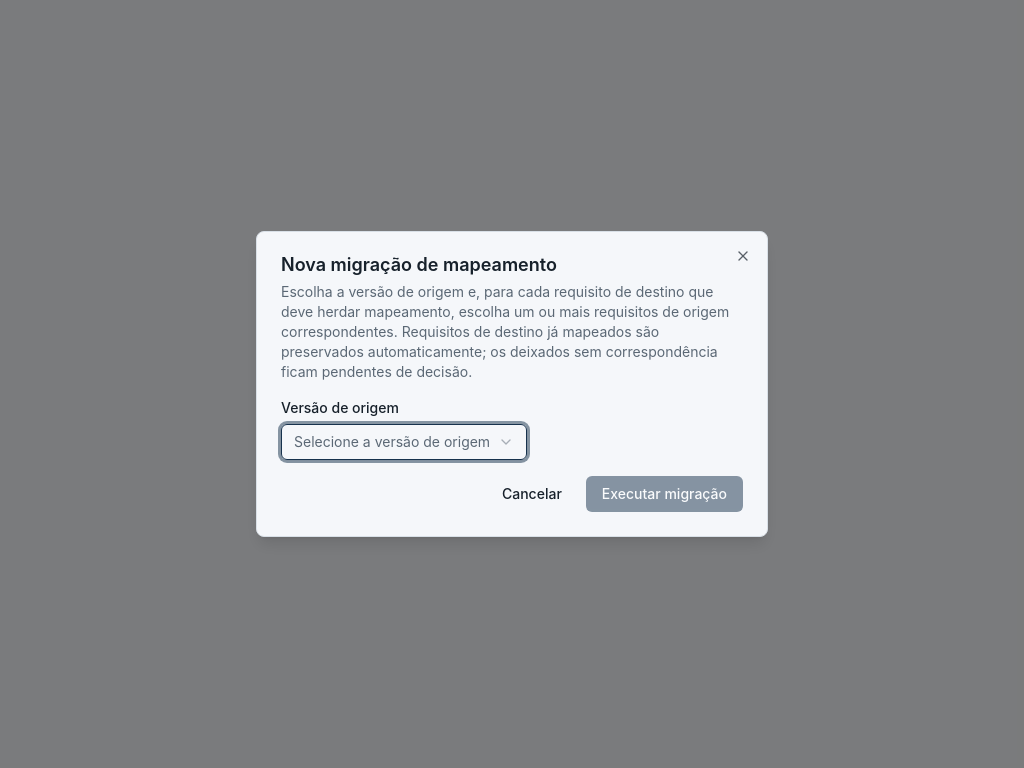
it: MappingMigrationDialog › offers every other version of the framework as a source, excluding the target itself
The width and height of the screenshot is (1024, 768).
What coordinates should you click on to do the following:
click the dropdown labelled "versão de origem"
I would click on:
 (404, 442)
Its box is left=281, top=424, right=527, bottom=460.
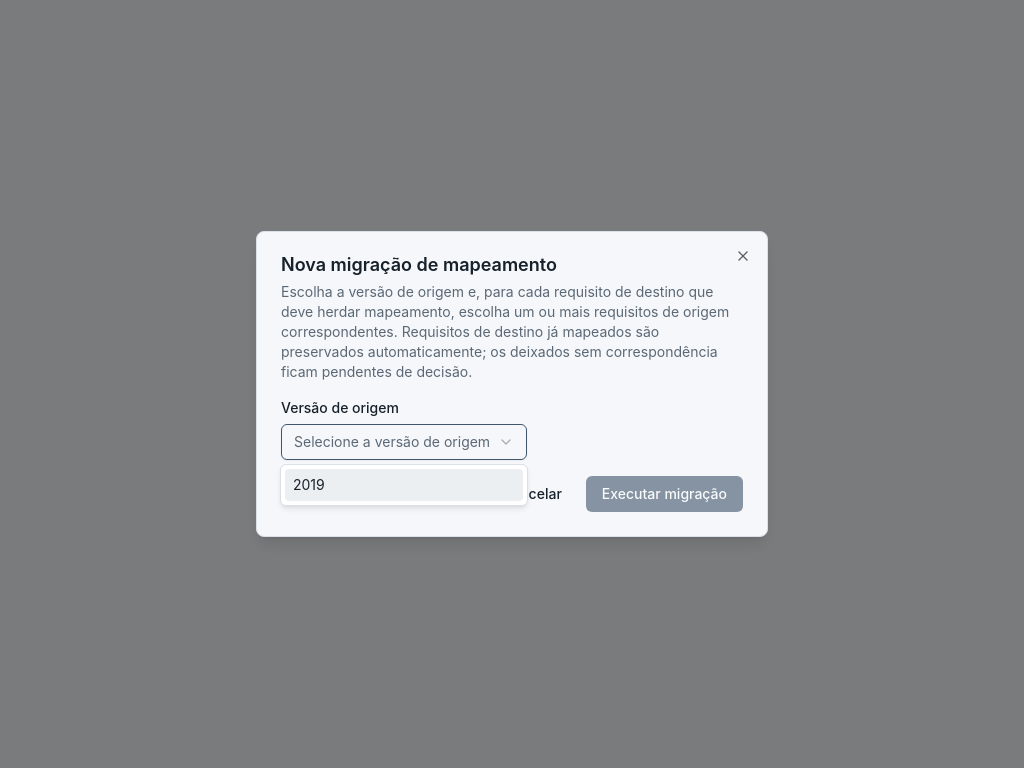
Result: the option "2019" is shown at left=285, top=469, right=523, bottom=501
